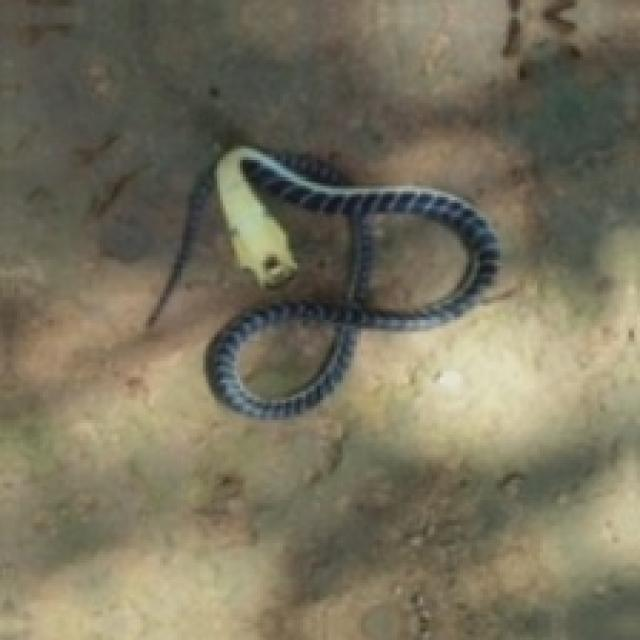king cobra: (206, 146, 497, 414), (363, 211, 469, 311), (237, 317, 337, 397)
